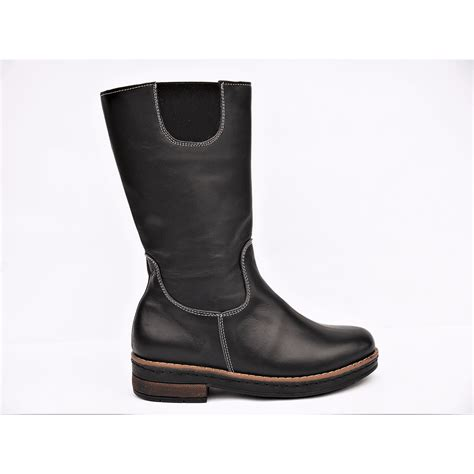cuero: (102, 80, 376, 379)
